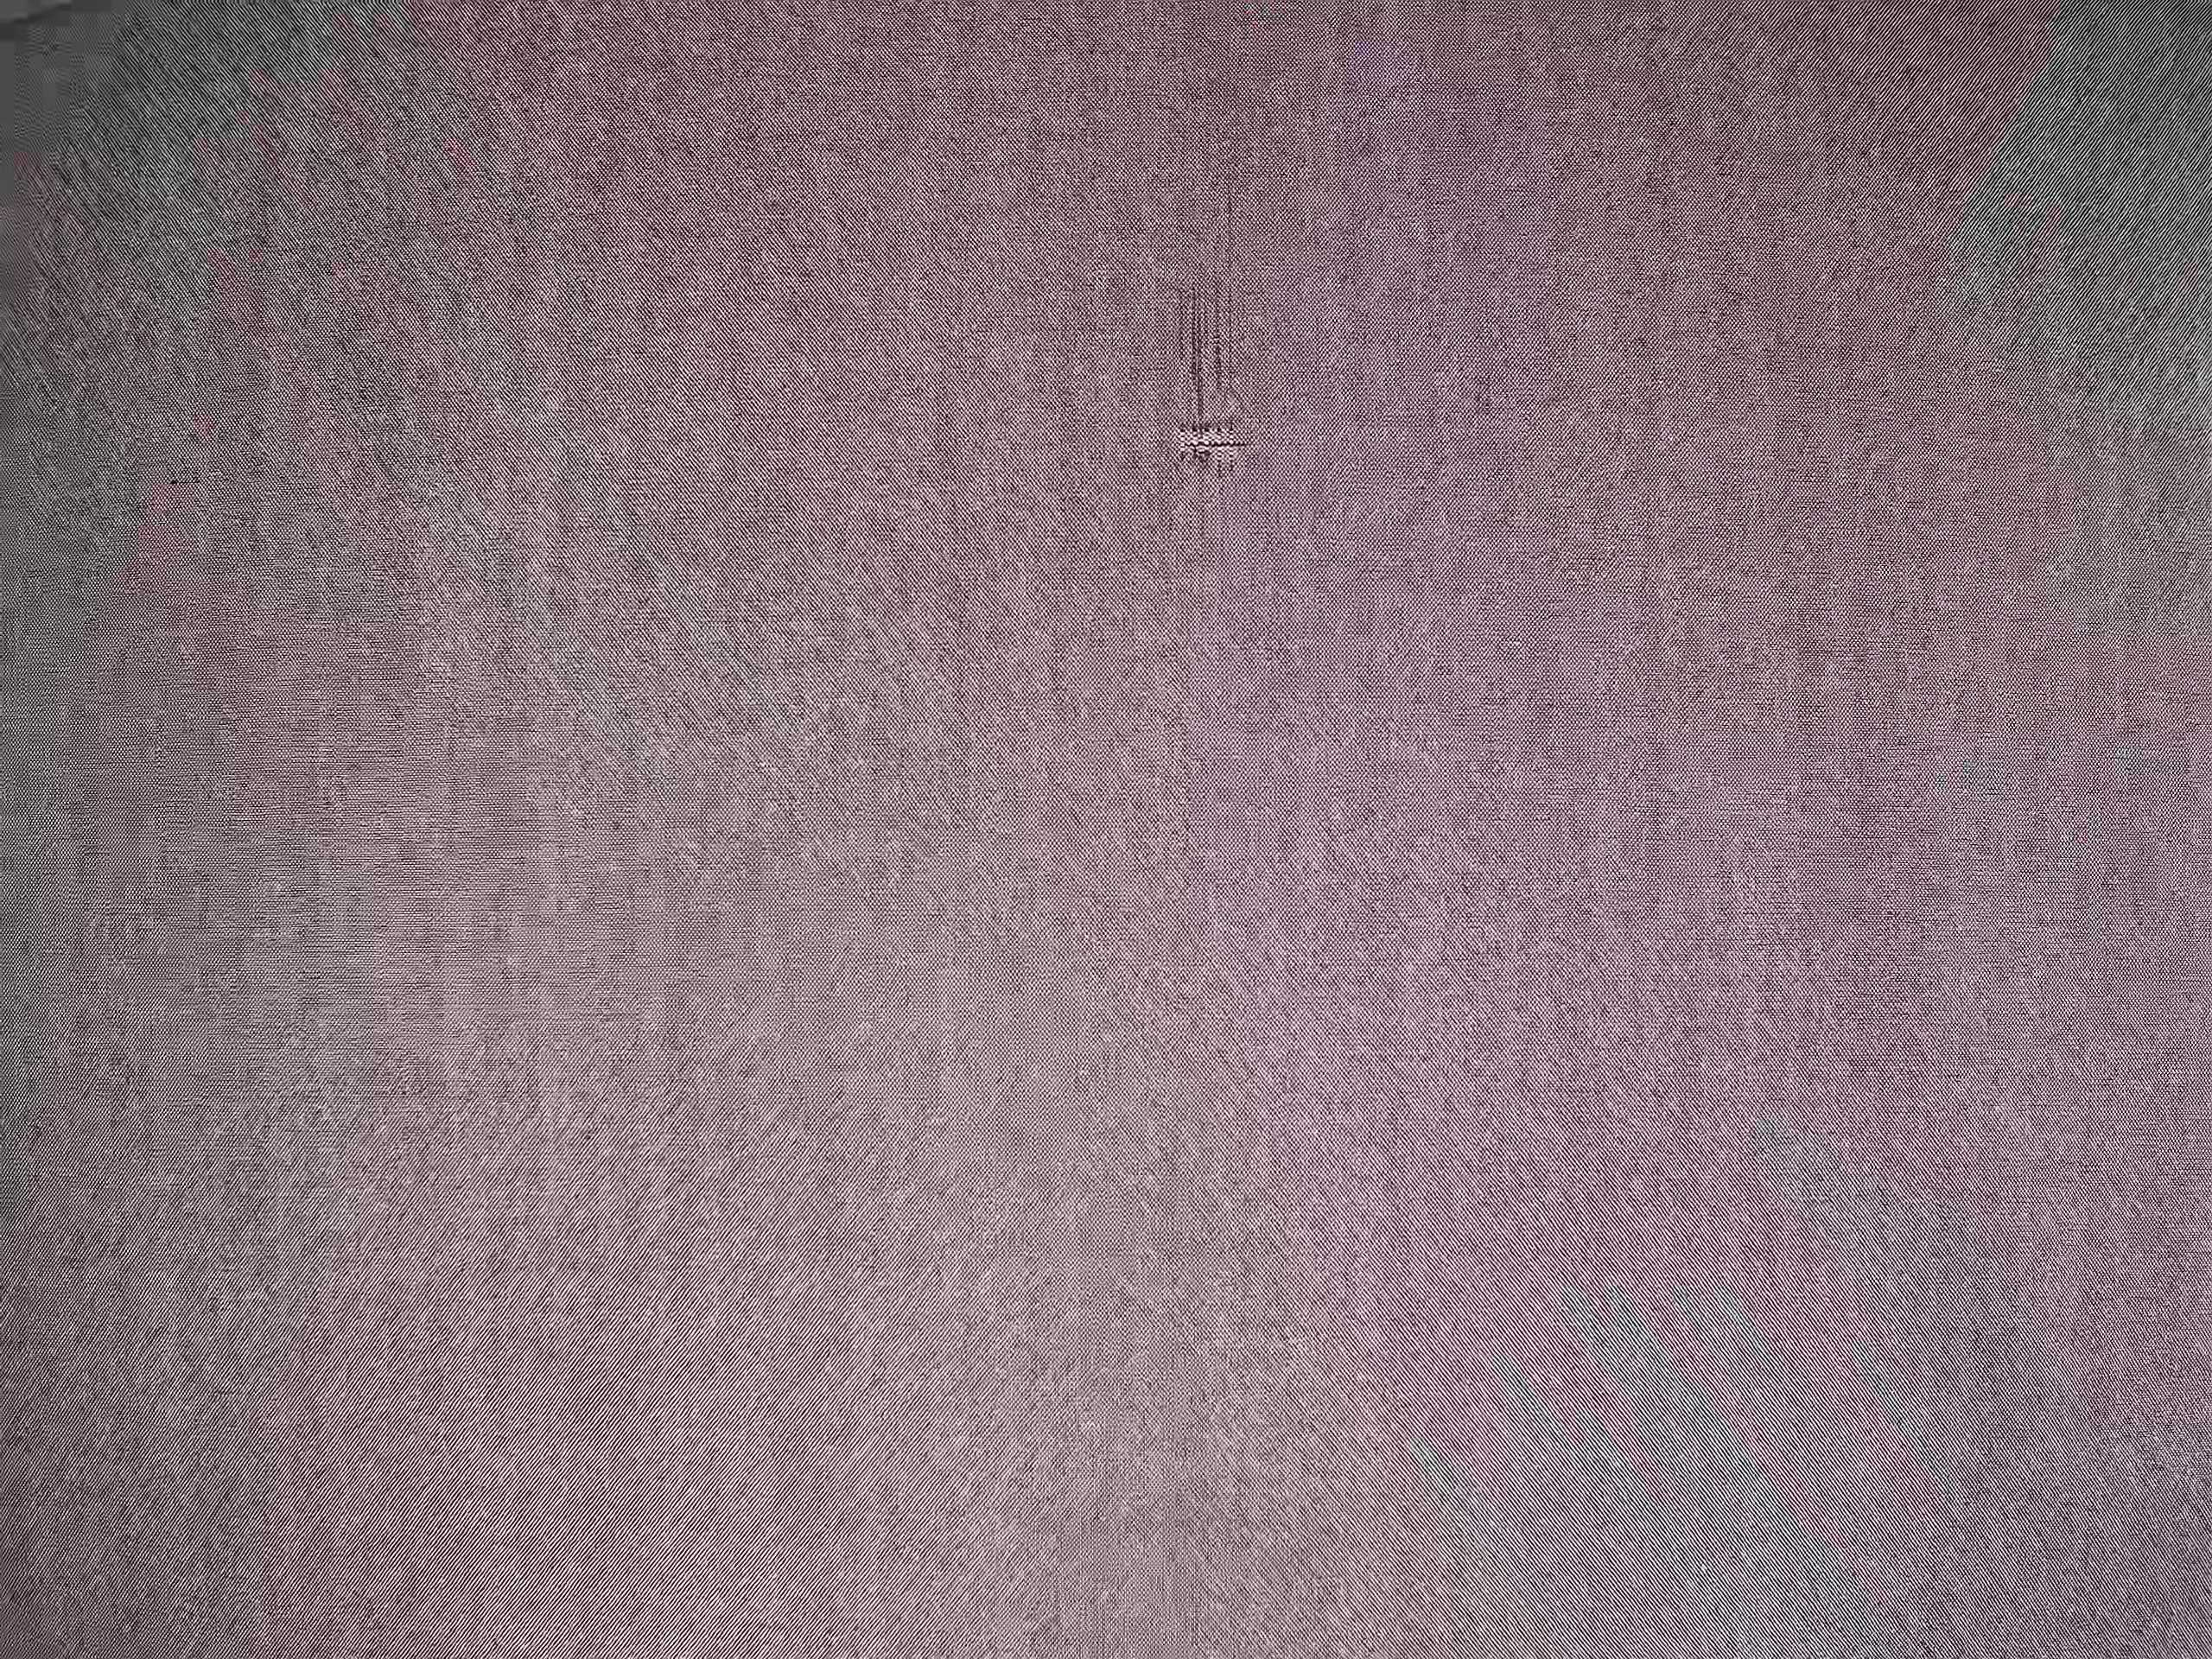hanging-warp: (1151, 213, 1270, 497)
